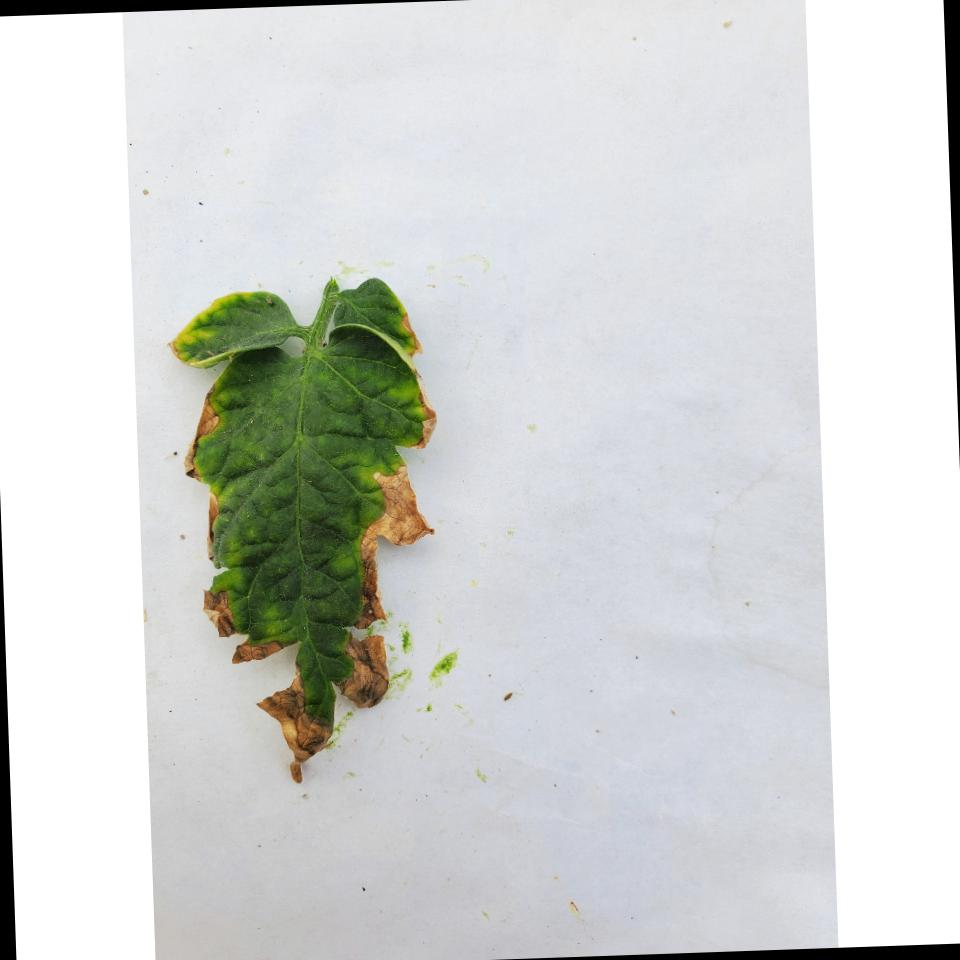tomato_bacterial_blight: (189, 268, 427, 755)
